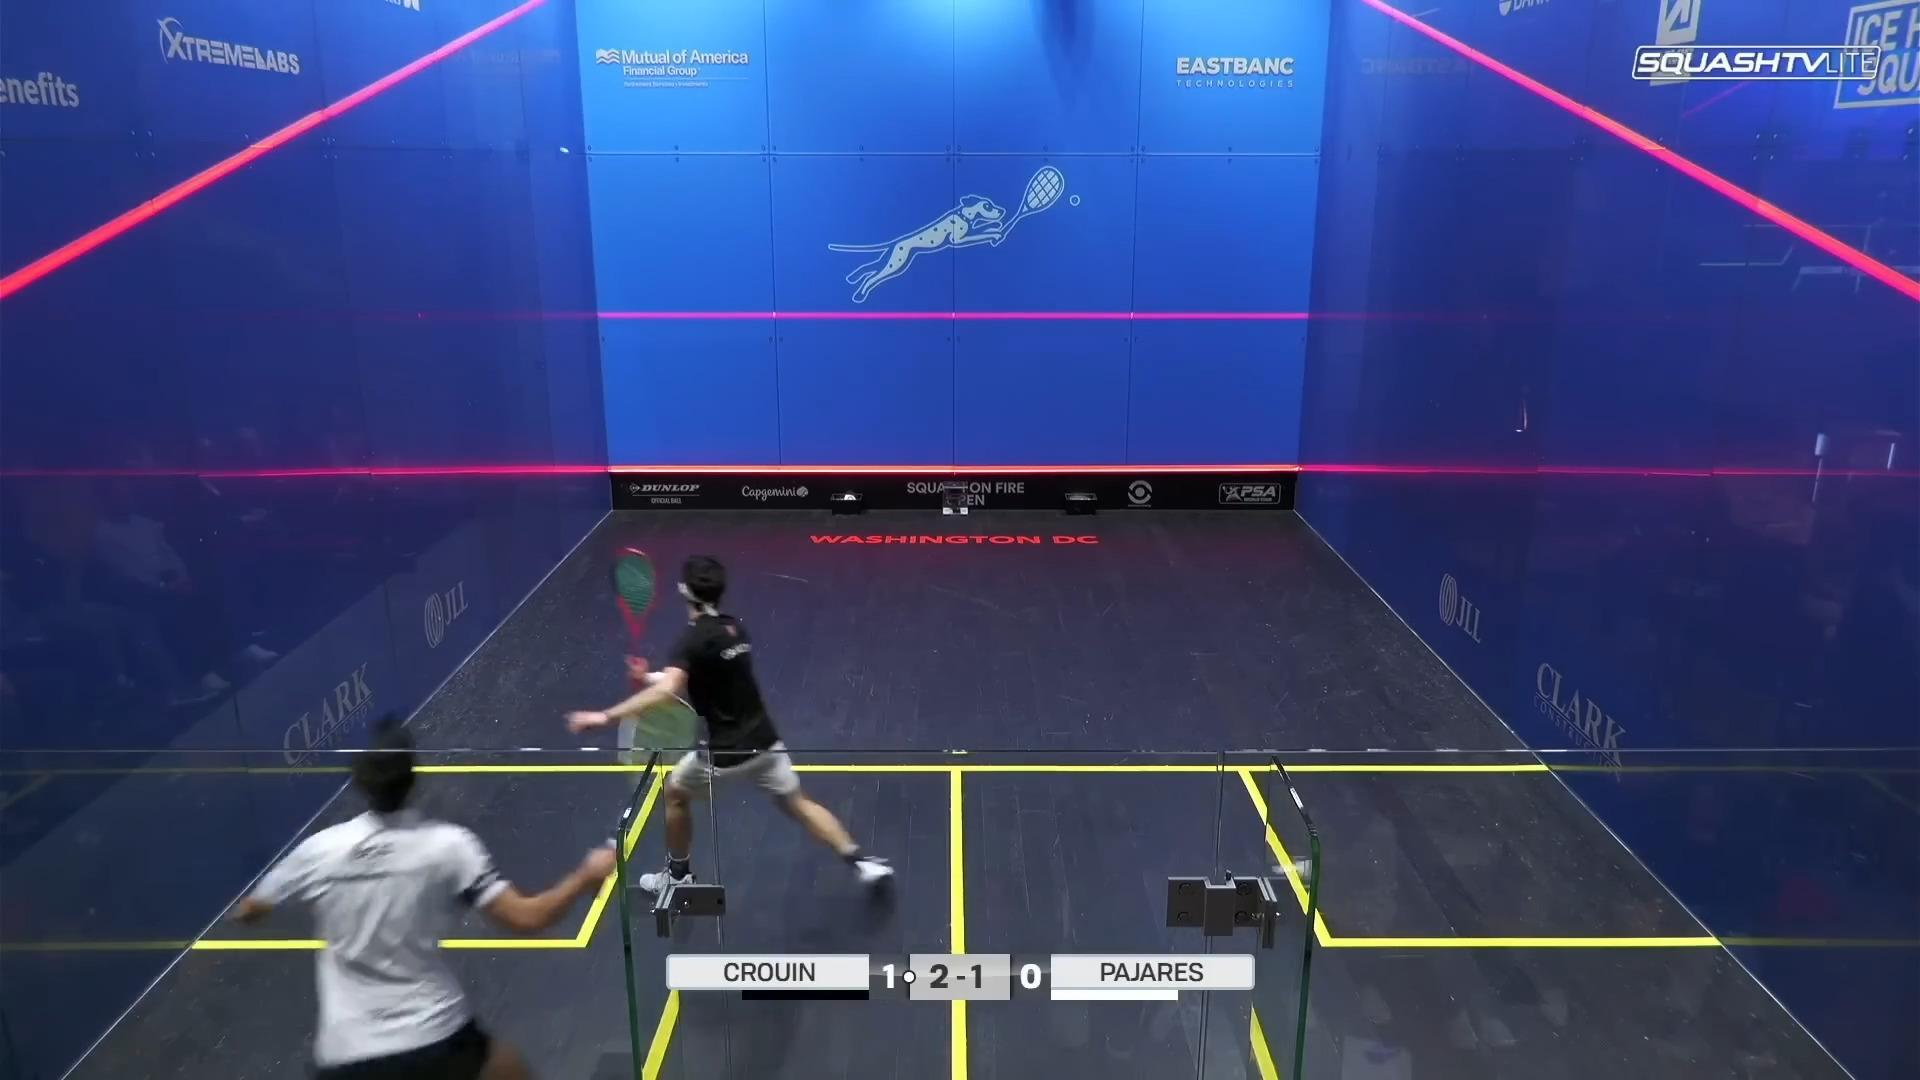Squash-Ball: (546, 135, 580, 167)
